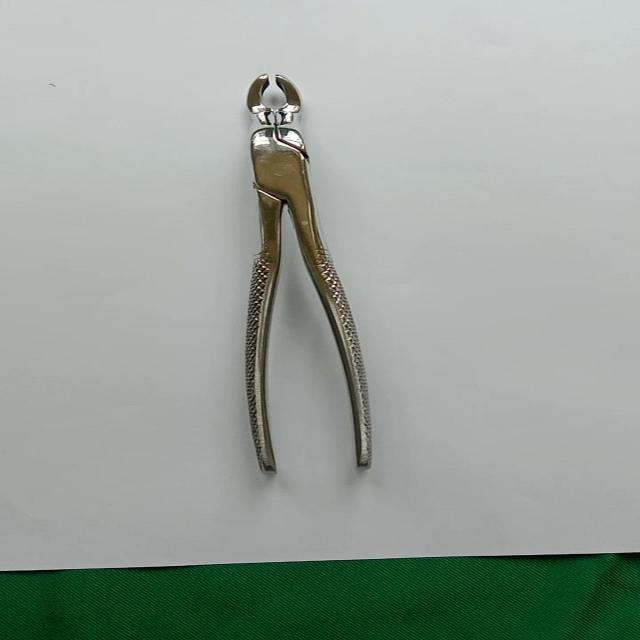BayonetForcep: (237, 68, 388, 480)
